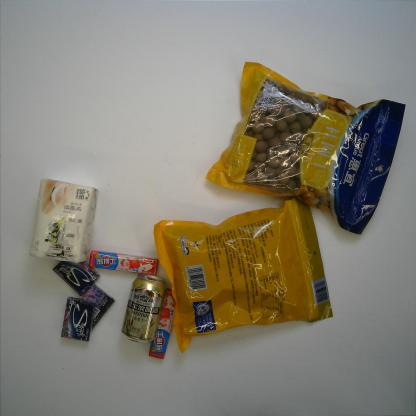Alcohol: (120, 272, 167, 345)
Candy: (147, 288, 182, 360), (86, 249, 160, 278)
Dried Food: (203, 60, 408, 236), (151, 193, 336, 355)
Gum: (66, 284, 115, 332), (52, 254, 101, 297), (59, 297, 95, 342)
Tissue: (26, 175, 101, 264)
